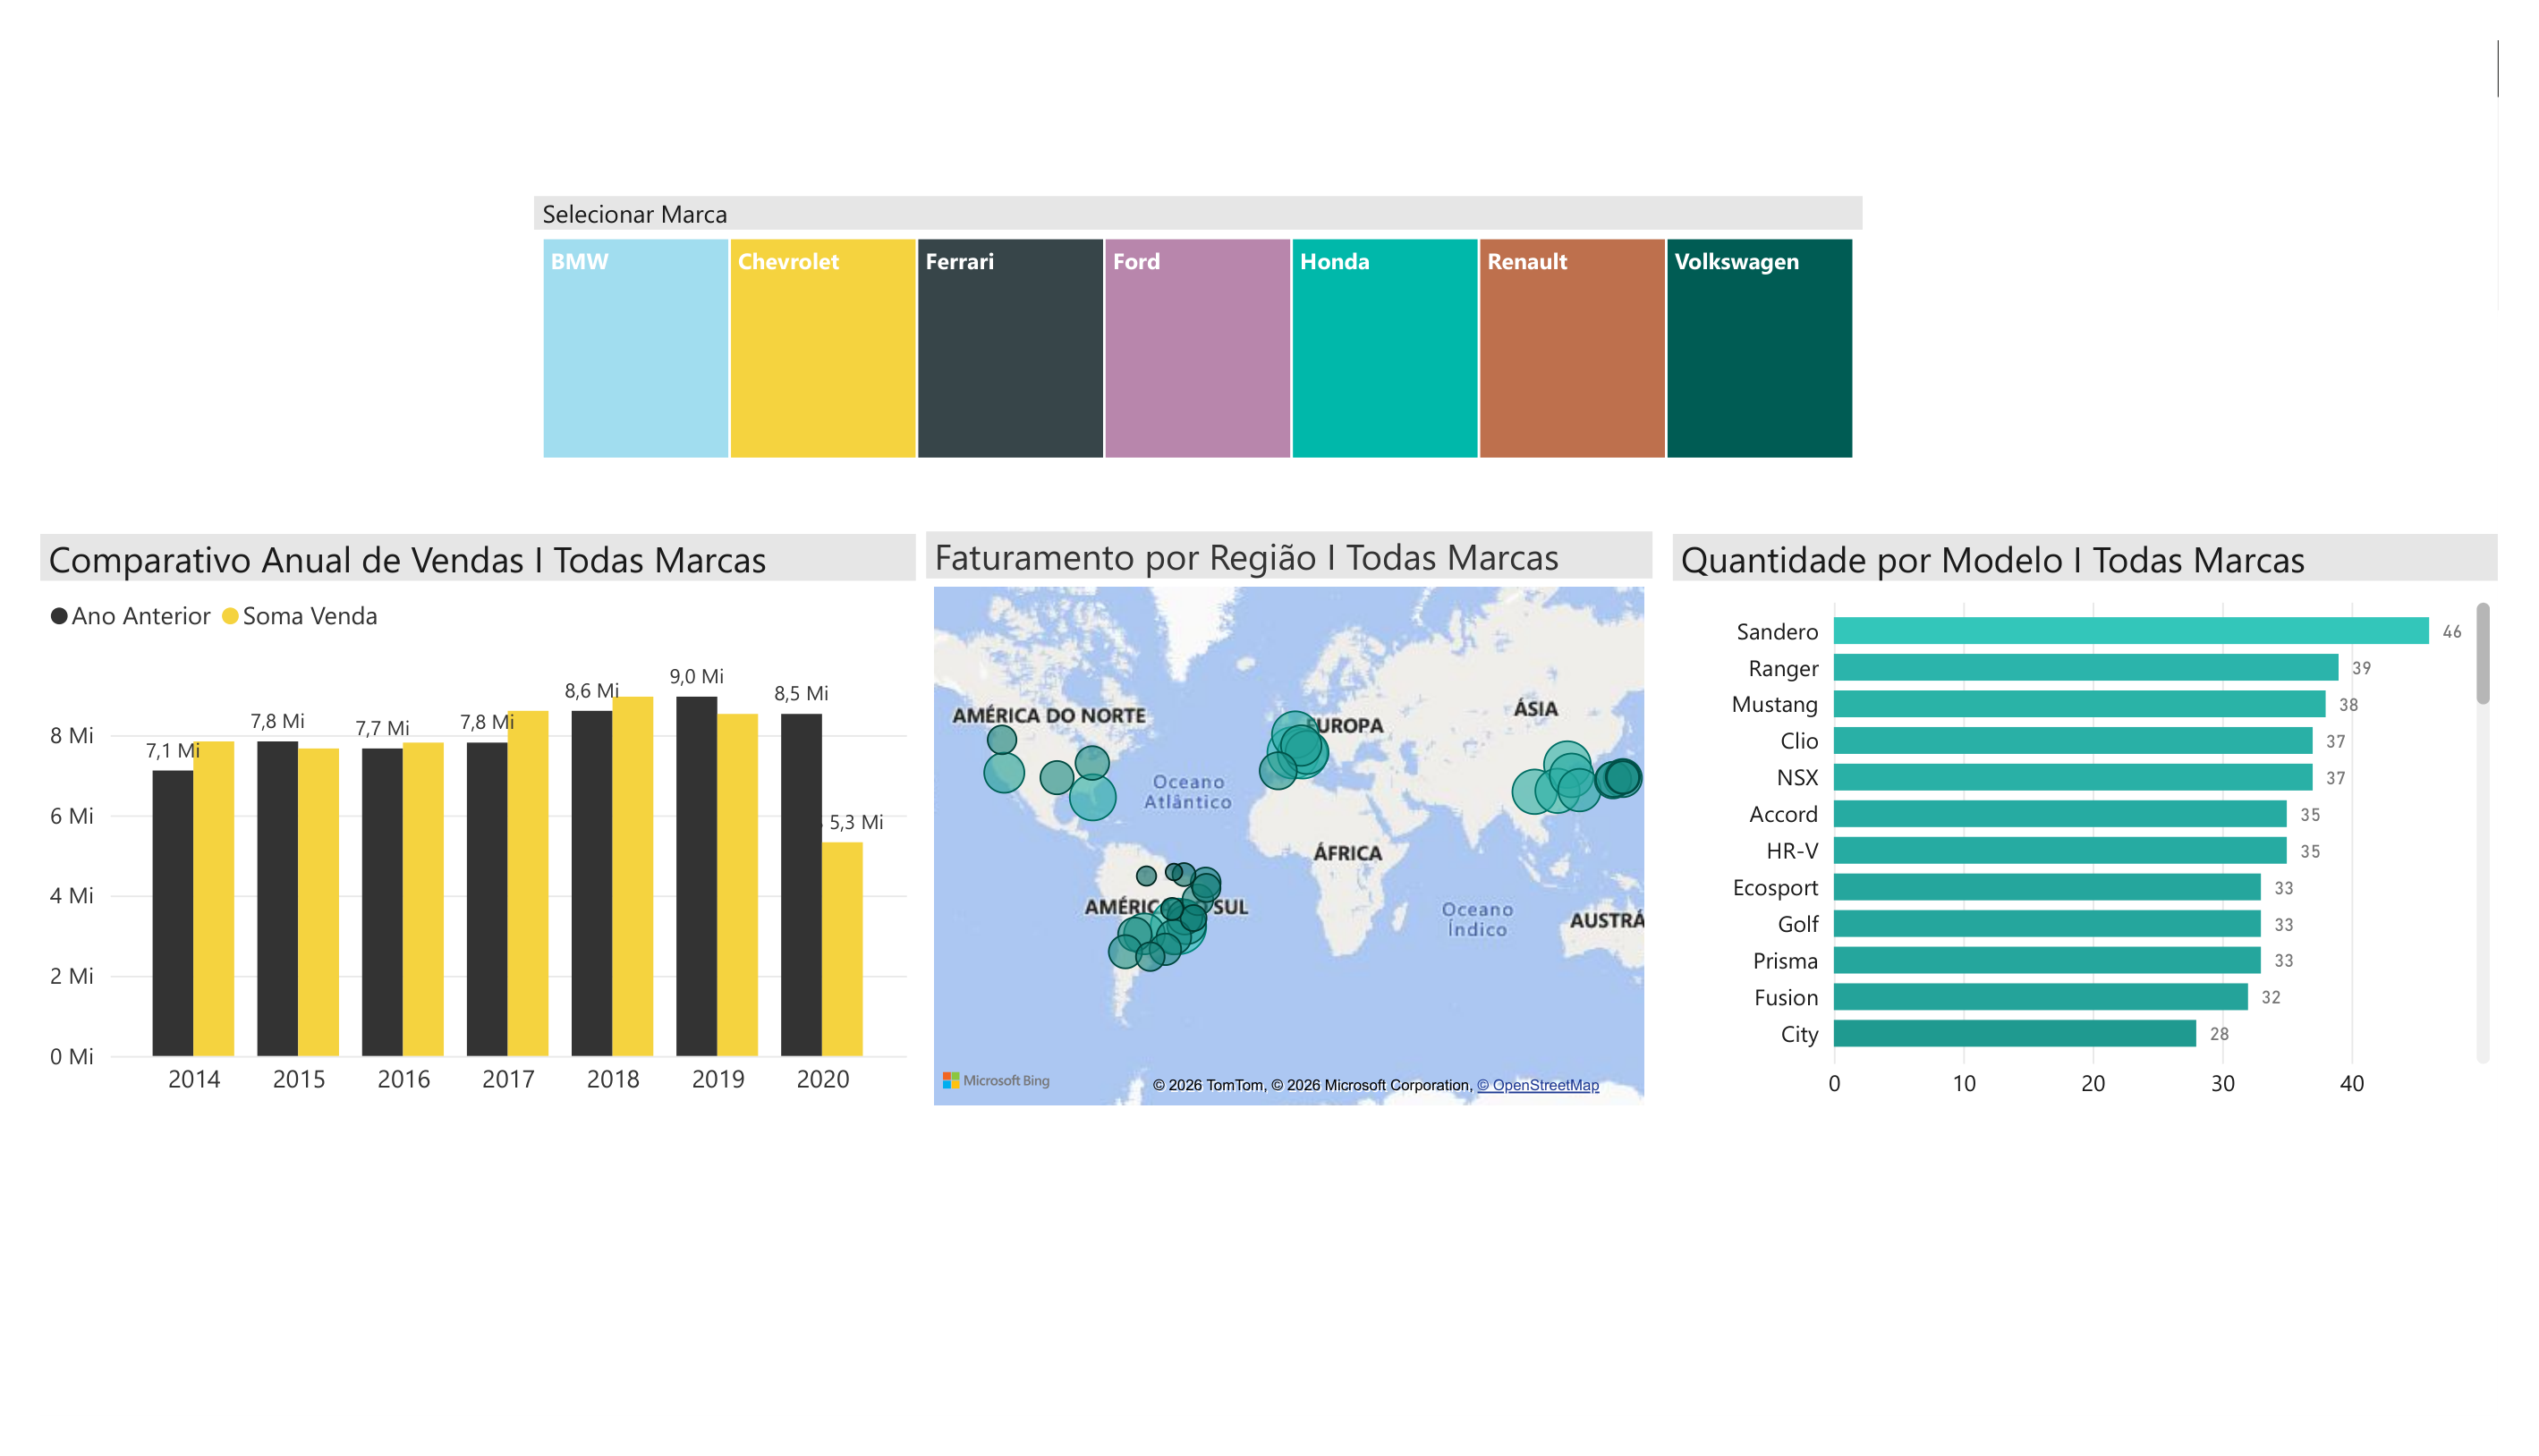

What the dashboard file says about the page in this screenshot:
{"tool":"powerbi","page":{"name":"Duplicata de Dashboard","canvas":[1465,820],"ordinal":2},"visuals":[{"type":"treemap","title":"Selecionar Marca","fields":{"Group":["base_vendas.MARCA"],"Values":["Count(base_vendas.MARCA)"]},"box":[295,93.3,791.7,161.7],"z":1000},{"type":"clusteredColumnChart","fields":{"Category":["Calendario.Date.Variation.Hierarquia de datas.Ano","Calendario.Date.Variation.Hierarquia de datas.Trimestre","Calendario.Date.Variation.Hierarquia de datas.Mês","Calendario.Date.Variation.Hierarquia de datas.Dia"],"Y":["Calendario.Ano Anterior","base_vendas.Soma Venda"]},"box":[0,295,521.7,345],"z":2000},{"type":"map","fields":{"Category":["base_vendas.REGIÃO"],"Size":["base_vendas.Soma Venda"]},"box":[528.3,293.3,433.3,346.7],"z":3000},{"type":"clusteredBarChart","fields":{"Category":["base_vendas.MODELO"],"Y":["CountNonNull(base_vendas.ID)"]},"box":[972.8,294.2,492.2,346.1],"z":4000}]}

Visuals, with their boxes in screenshot pixels (x1, y1, x2, y2), scaled from the page's 1465x820 canvas onto the 2539x1456 screenshot:
"Selecionar Marca" treemap: (x1=511, y1=165, x2=1883, y2=453)
clusteredColumnChart - Calendario.Date.Variation.Hierarquia de datas.Ano x Calendario.Date.Variation.Hierarquia de datas.Trimestre: (x1=0, y1=524, x2=904, y2=1137)
map - base_vendas.REGIÃO x base_vendas.Soma Venda: (x1=915, y1=521, x2=1667, y2=1137)
clusteredBarChart - base_vendas.MODELO x CountNonNull(base_vendas.ID): (x1=1686, y1=522, x2=2538, y2=1137)
